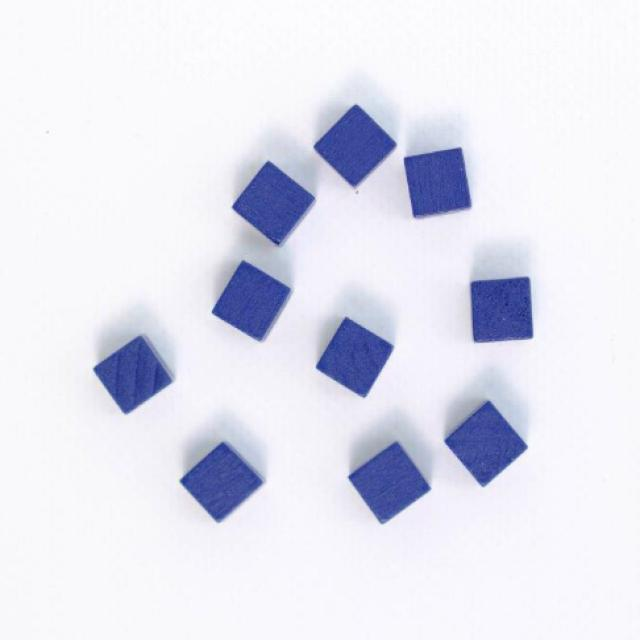bluecube: (231, 159, 317, 248), (445, 401, 530, 490), (312, 102, 397, 188), (179, 440, 264, 523), (211, 260, 294, 344), (314, 315, 397, 398), (348, 441, 431, 524), (91, 335, 174, 418), (402, 148, 473, 218), (471, 276, 533, 342)
